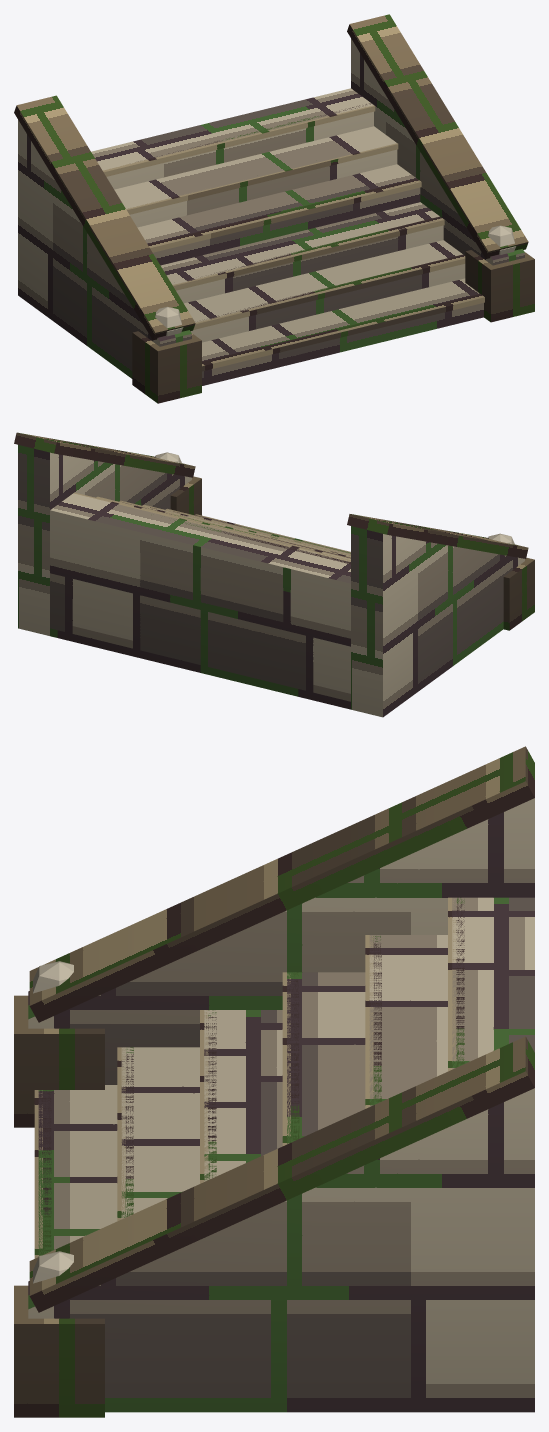
File: scene_stair_yard.glb
3 renders of one model, top to bottom at view 1: azimuth 30°, elevation 25°; view 2: azimuth 150°, elevation 25°; view 3: azimuth 270°, elevation 25°, orthographic. The views are drawn at different scales.
Visible parts, largest first — view 1: scene_stair_yard; view 2: scene_stair_yard; view 3: scene_stair_yard.
Part boxes in pixels (box(x1,y1,x2,y2)): scene_stair_yard: box(14, 14, 534, 403); scene_stair_yard: box(14, 432, 534, 717); scene_stair_yard: box(14, 746, 534, 1417).
Size of the model in its own units: 3.76 by 1.84 by 2.52.
Materials: 2 (1 with a texture image).
